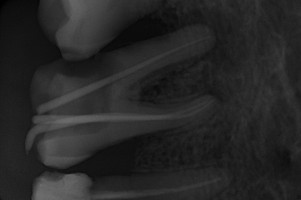Dental Caries: (138, 5, 252, 101), (203, 85, 227, 101)
